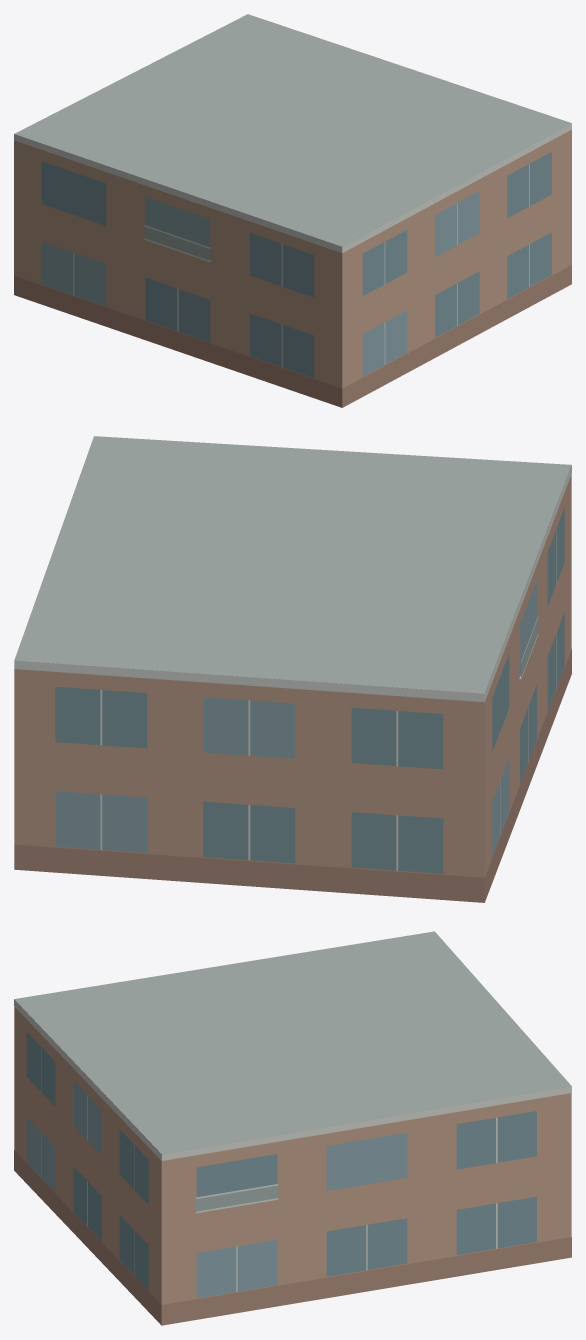
The model's file is survey-upis-32841377.glb.
3 views of the same model, one above another, from view 1: azimuth 30°, elevation 25°; view 2: azimuth 150°, elevation 25°; view 3: azimuth 270°, elevation 25° (orthographic). The views are drawn at different scales.
Visible parts, largest first — view 1: survey-upis-32841377.tmp; view 2: survey-upis-32841377.tmp; view 3: survey-upis-32841377.tmp.
Part boxes in pixels (x1,y1,x2,y2): survey-upis-32841377.tmp: (14,14,571,407); survey-upis-32841377.tmp: (14,436,571,902); survey-upis-32841377.tmp: (14,931,571,1325).
Bounding box in the file's own units: 17.03 × 6.1 × 18.
